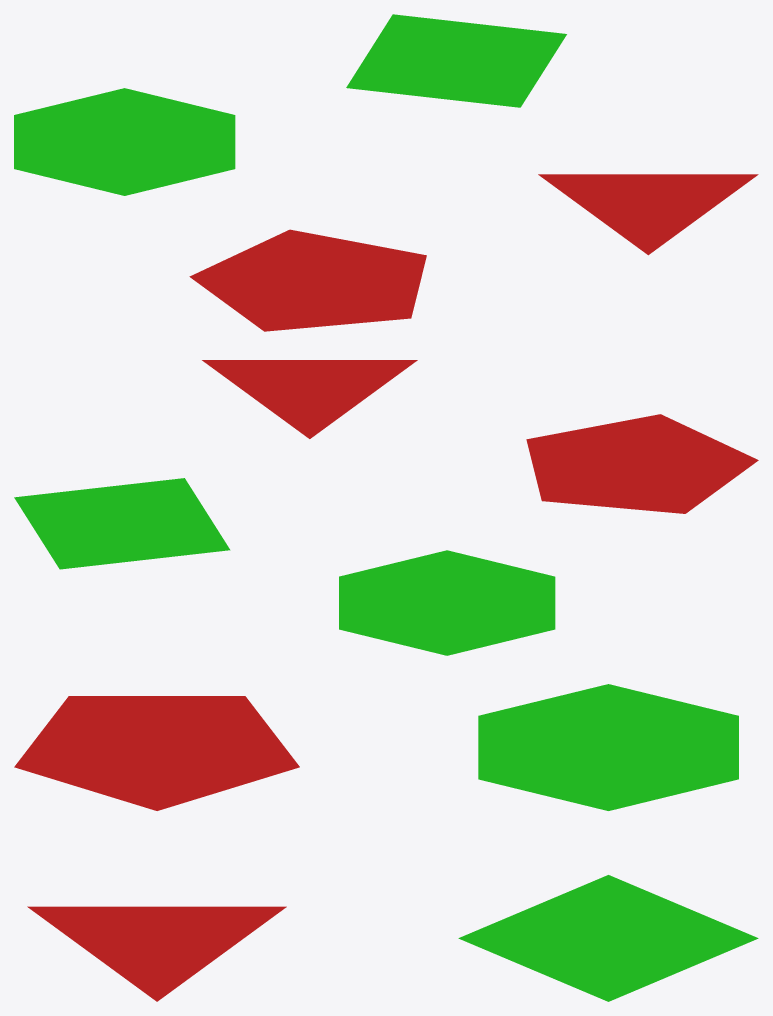
File: ngon_two_mats.fbx
The picture shows the model from 3 angles, top to bottom: view 1: azimuth 30°, elevation 25°; view 2: azimuth 150°, elevation 25°; view 3: azimuth 270°, elevation 25°; orthographic projection. The views are drawn at different scales.
Parts seen in each view (by area): view 1: Shapes; view 2: Shapes; view 3: Shapes.
Part boxes in pixels (box(x1,y1,x2,y2)): Shapes: box(14, 14, 758, 331); Shapes: box(14, 360, 758, 655); Shapes: box(14, 684, 758, 1001).
Bounding box in the file's own units: 5 × 4.95 × 0.
